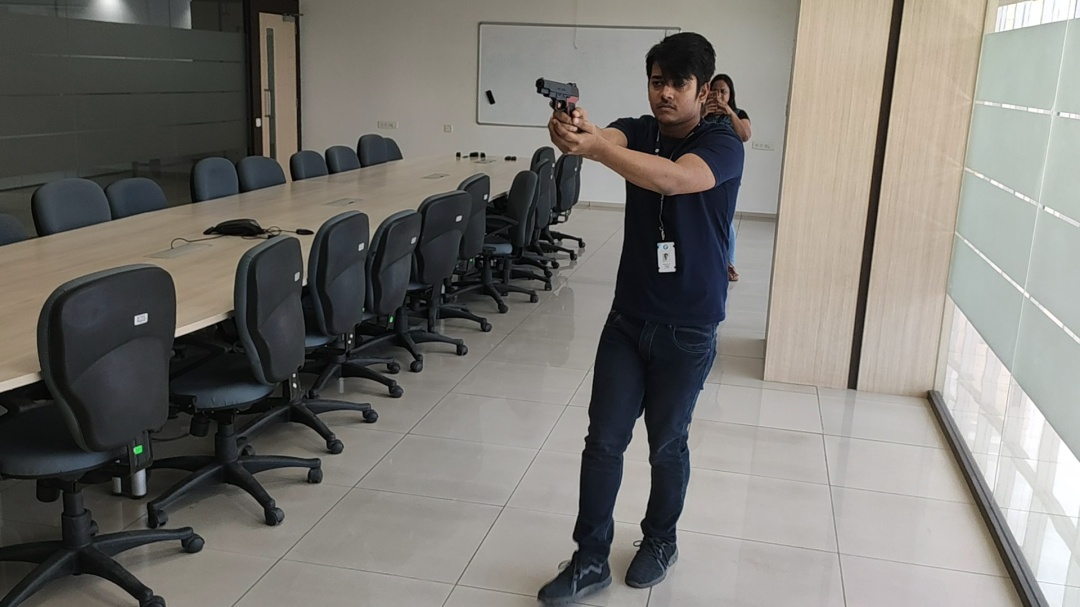gun: (531, 69, 594, 116)
